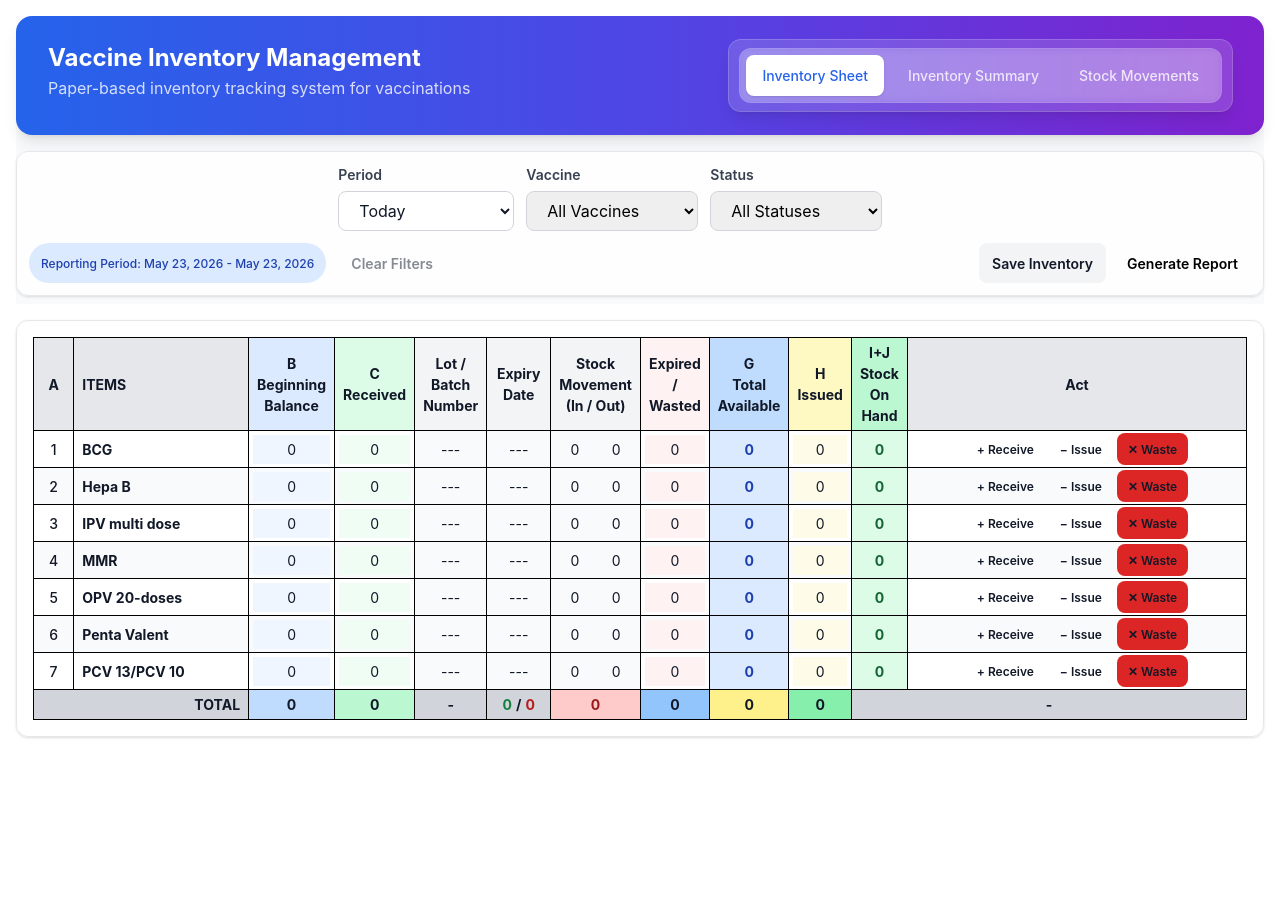
Test: Inventory Management save behavior › blocks waste transactions when the selected lot/batch cannot fulfill the requested quantity
Expected: the button "Save Inventory" is shown, [979,243,1106,283]
Expected: the row "1 BCG 0 0 --- --- 0 0 0 0 0 0 + Receive − Issue ✕ Waste" is shown, [34,430,1246,468]
Click the button "✕ Waste" in the row of "BCG".
click(1152, 449)  # box [1117,433,1188,465]
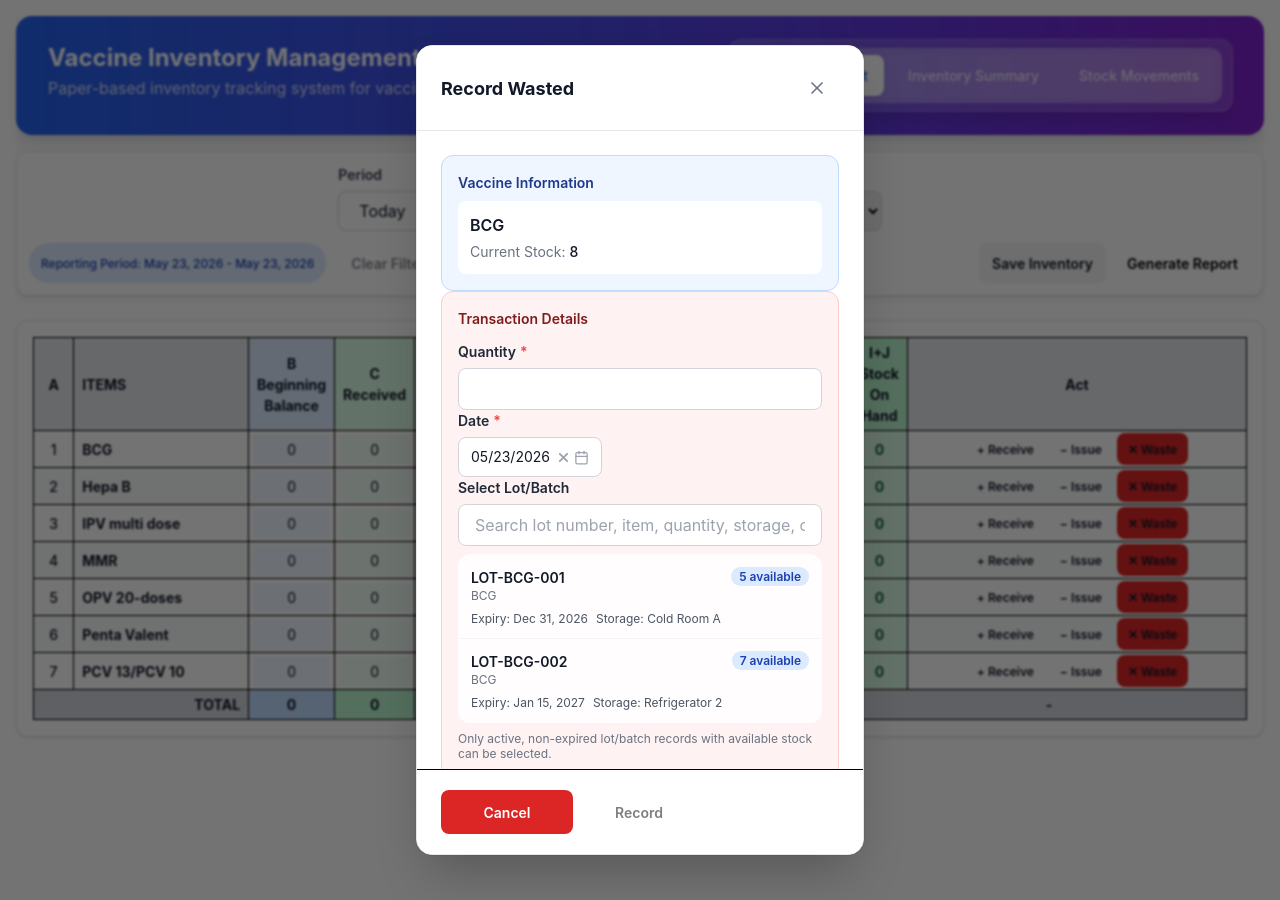
Click the button "LOT-BCG-001".
click(518, 578)  # box [459,555,821,639]
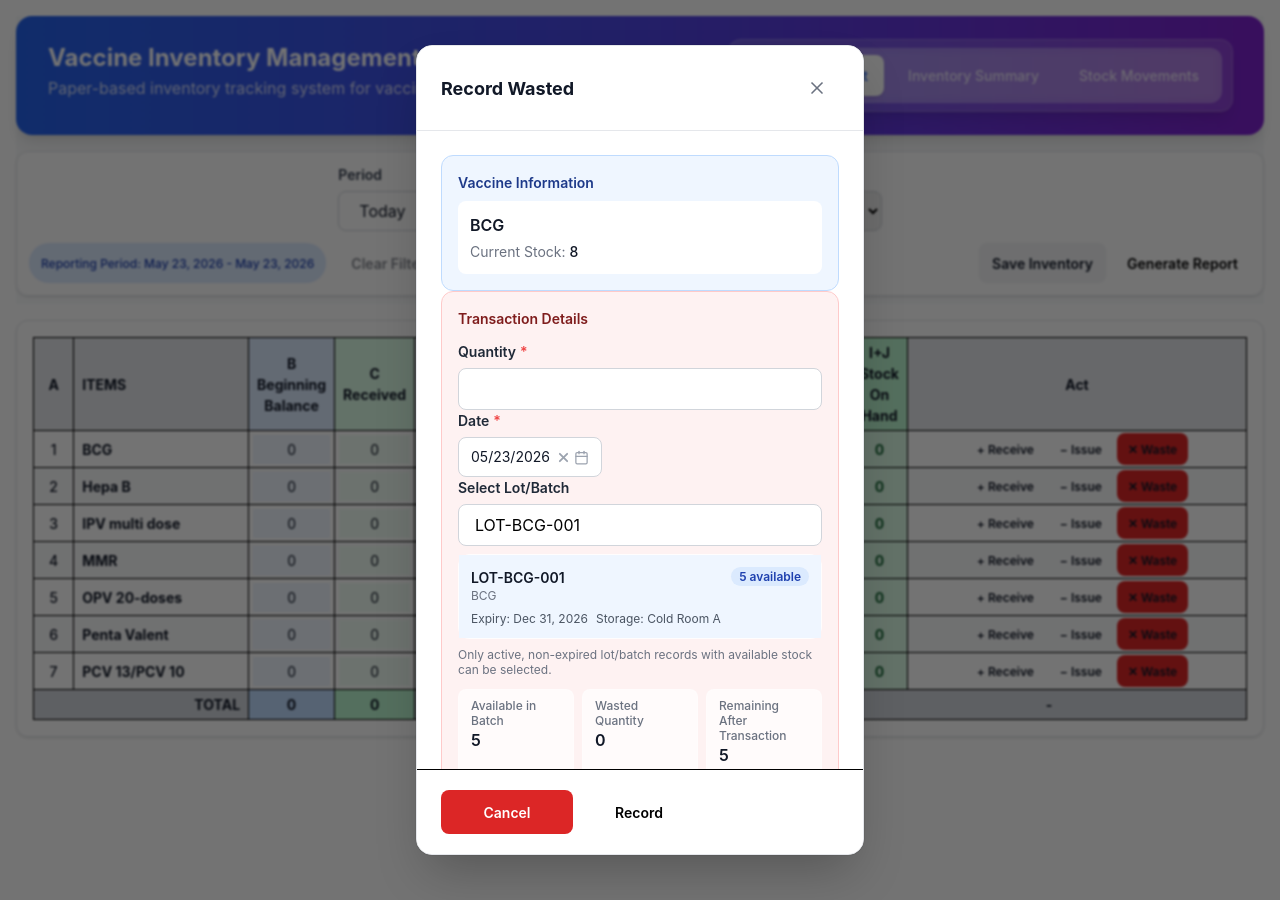
Type "9" into the number field labelled "Quantity".
click(640, 389); type("9")  # box [458,368,822,410]
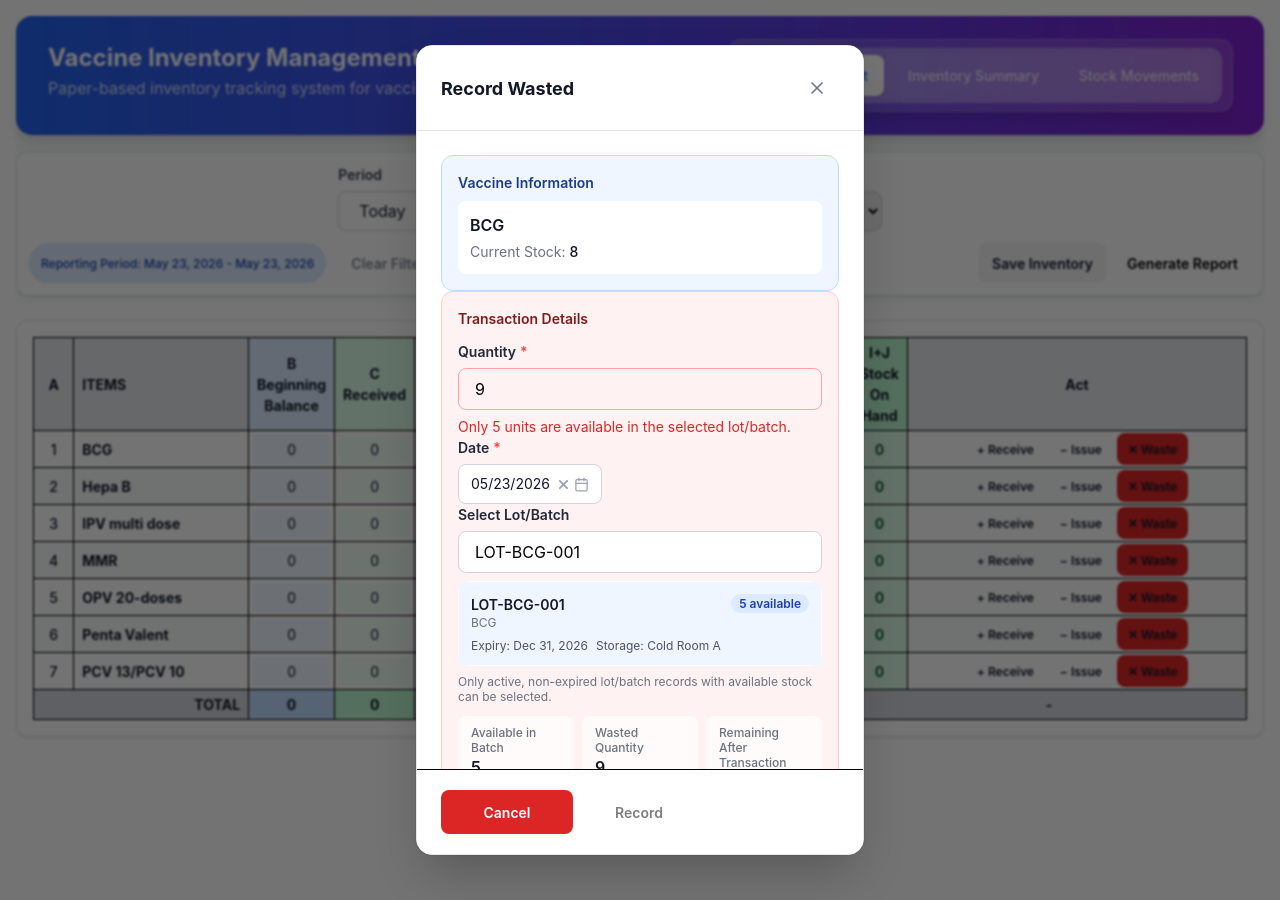
Result: the text "Only 5 units are available in the selected lot/batch." is shown at [458,416,822,437]
Result: the button "Record" is disabled at [573,790,705,834]
